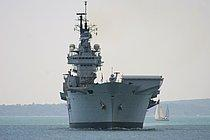MIL_Ship: (59, 1, 163, 129)
